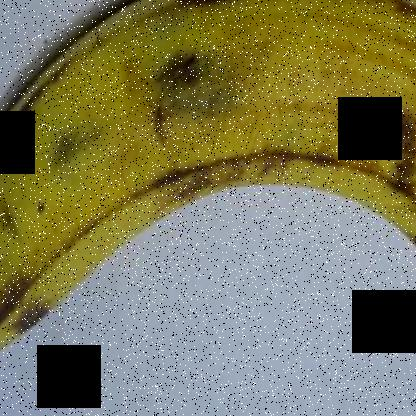overripe: (1, 1, 415, 383)
